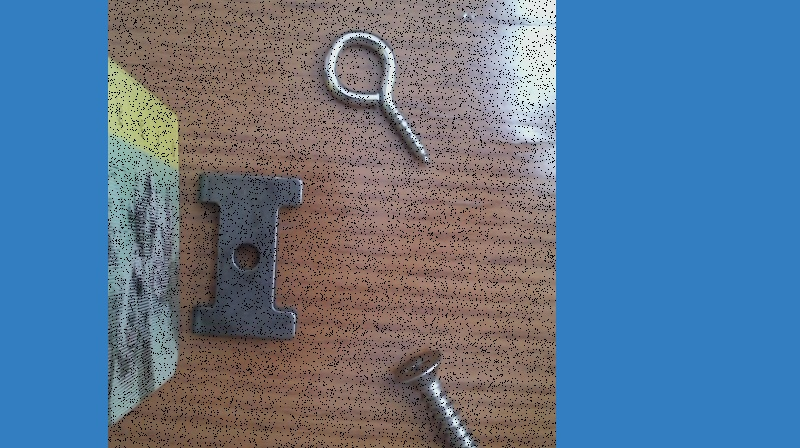O001: (317, 26, 437, 170)
O002: (191, 167, 305, 343)
S001: (388, 342, 504, 447)
